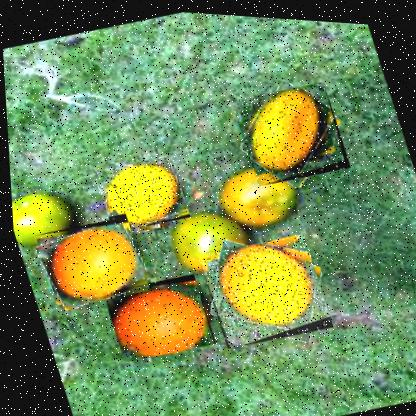orange: (192, 224, 331, 353), (228, 72, 350, 188), (28, 209, 148, 314), (97, 266, 213, 367), (90, 149, 190, 239)
